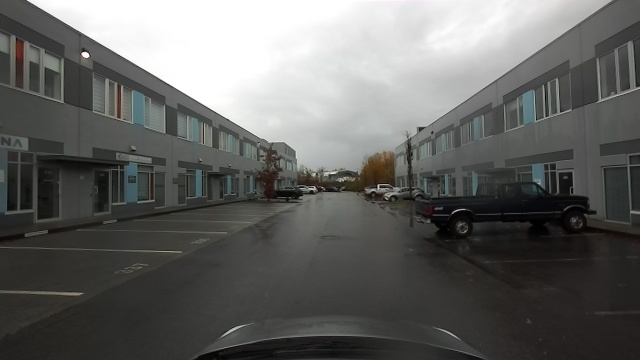car: (413, 178, 593, 237), (381, 186, 421, 201), (265, 185, 303, 200), (367, 183, 392, 198), (299, 185, 316, 196)
